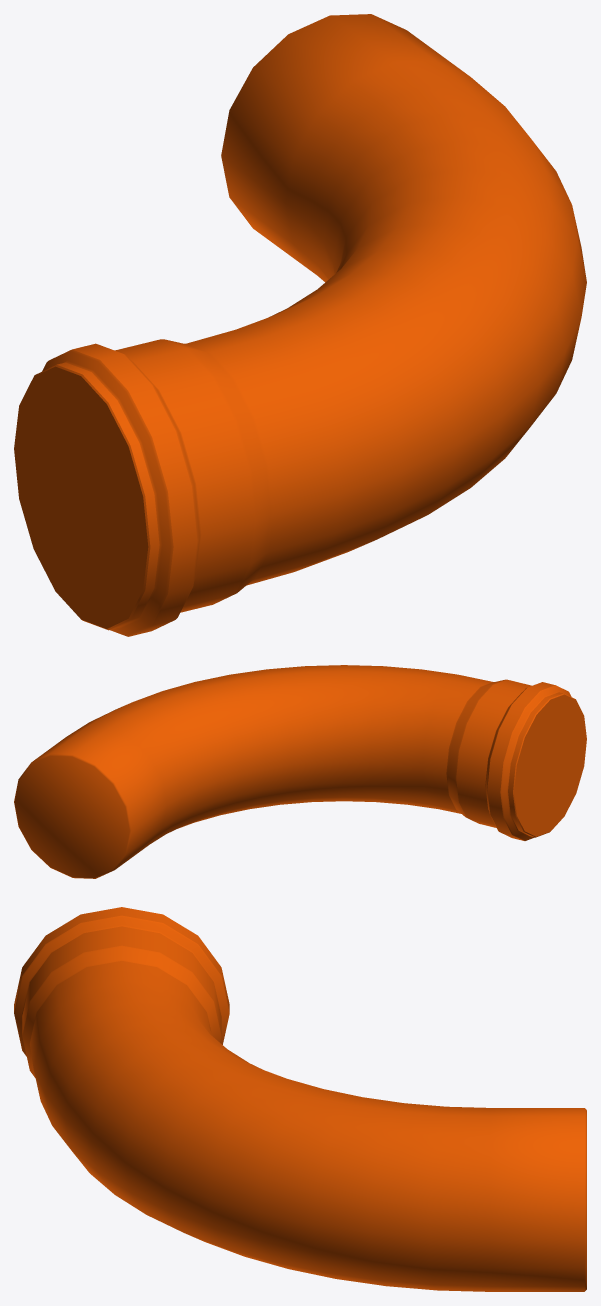
File: PVC_Bend_D.FBX
The picture shows the model from 3 angles, top to bottom: view 1: azimuth 30°, elevation 25°; view 2: azimuth 150°, elevation 25°; view 3: azimuth 270°, elevation 25°; orthographic projection. The views are drawn at different scales.
Visible parts, largest first — view 1: PVC_Bend_D; view 2: PVC_Bend_D; view 3: PVC_Bend_D.
Boxes of the visible parts, x1,y1,x2,y2 form: PVC_Bend_D: (14, 14, 586, 636); PVC_Bend_D: (14, 665, 586, 878); PVC_Bend_D: (14, 907, 586, 1291).
Size of the model in its own units: 49.51 by 18.74 by 49.77.
